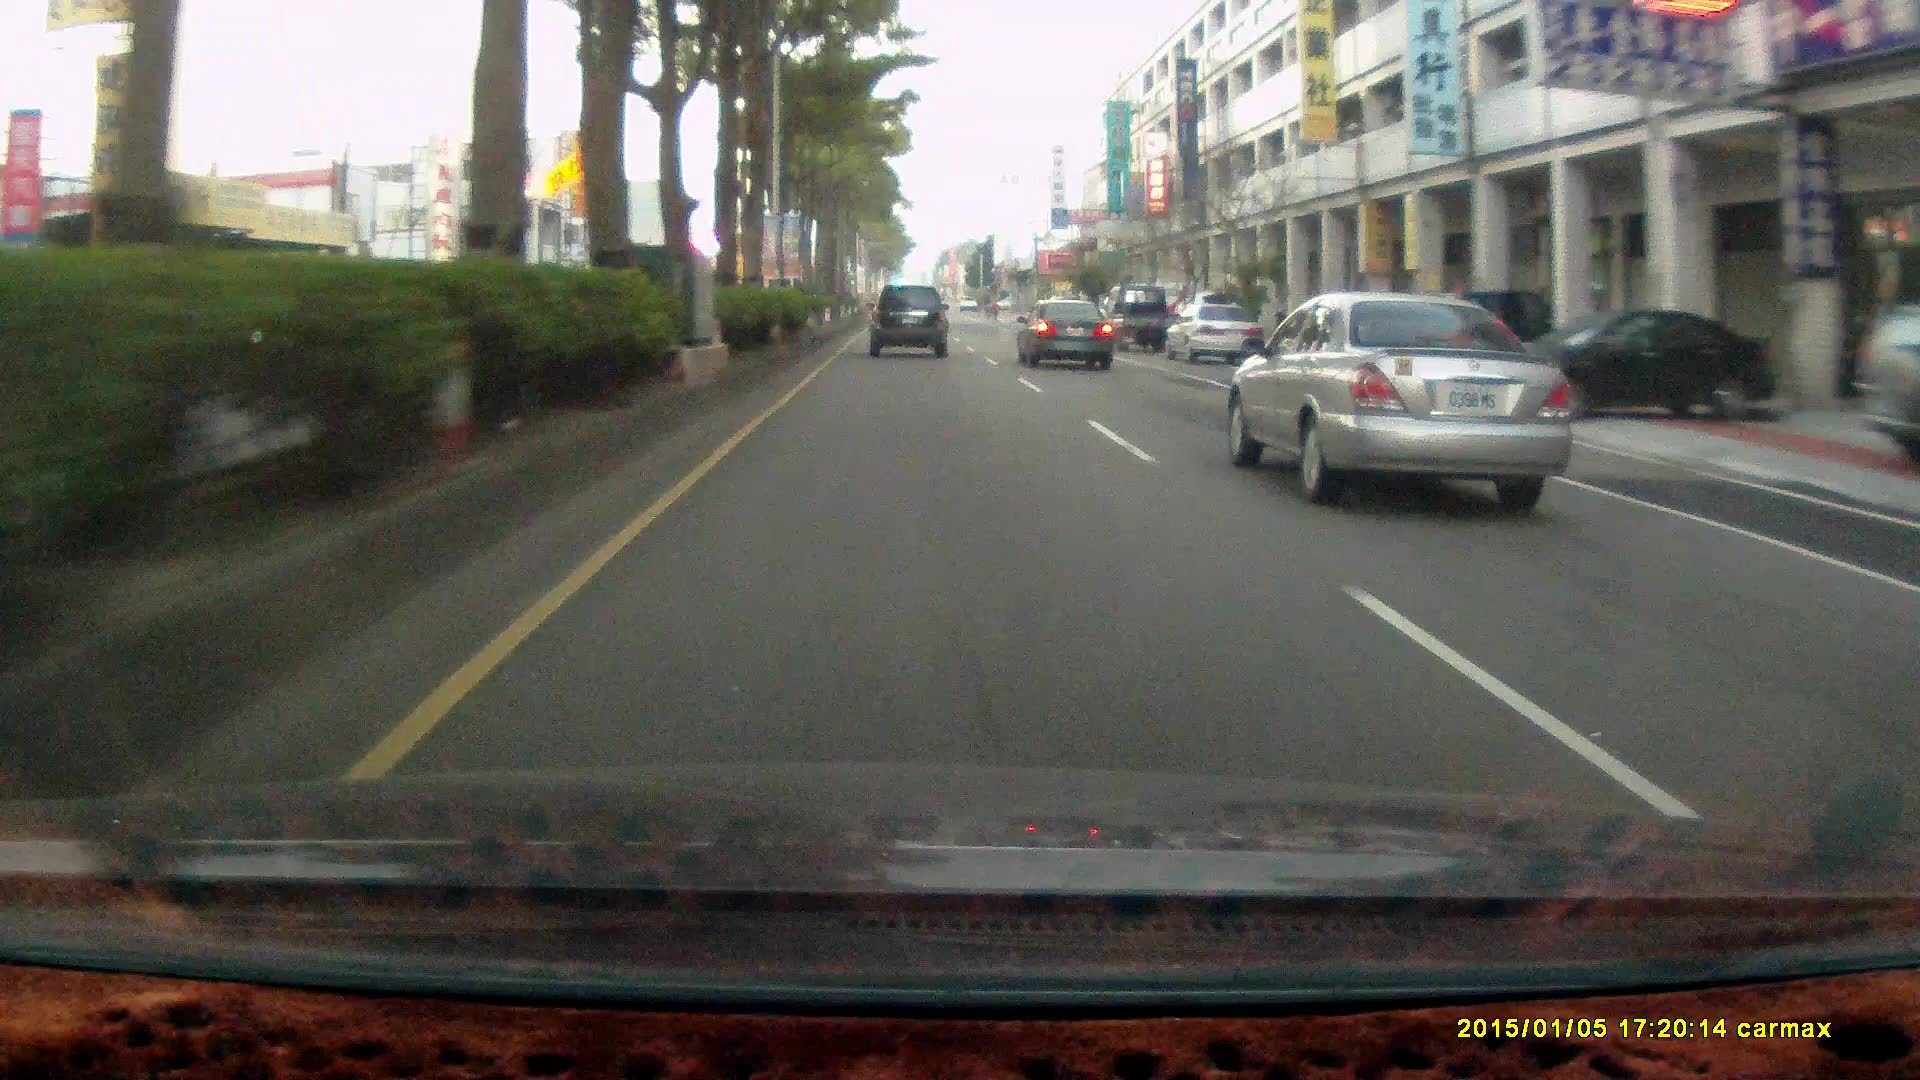vehicle: (1226, 294, 1578, 514), (1482, 305, 1785, 426), (1484, 305, 1775, 421), (1851, 301, 1920, 465), (1015, 298, 1120, 375), (1015, 301, 1116, 371), (869, 284, 951, 361), (1160, 301, 1262, 363), (1168, 306, 1267, 367), (865, 284, 948, 353), (1100, 285, 1170, 352)
